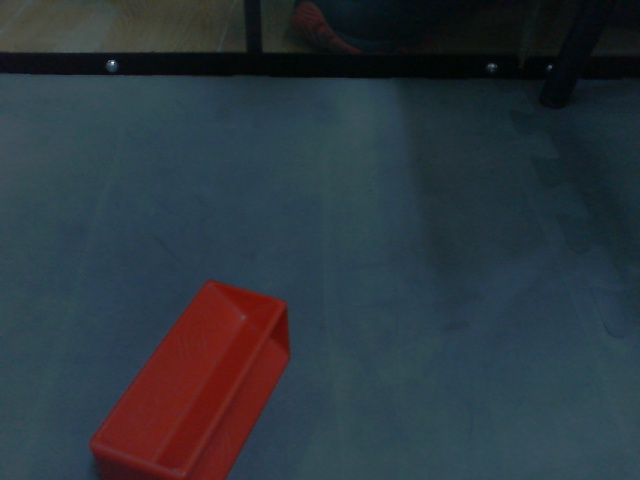RedSample: (87, 276, 293, 480)
